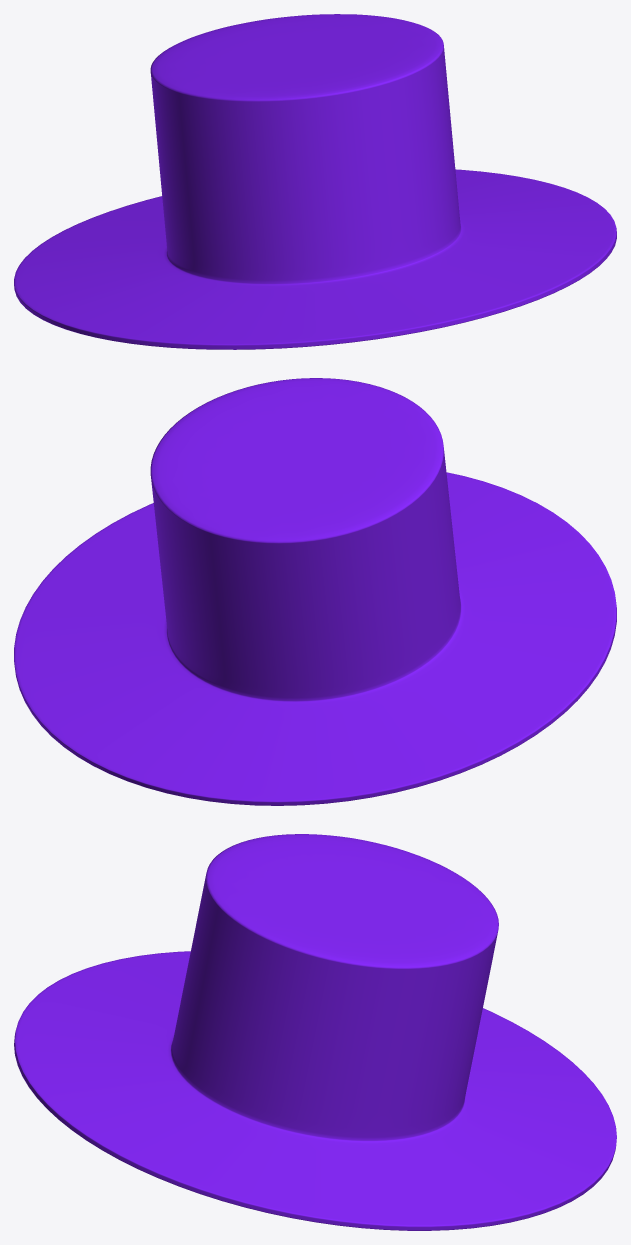
Rendered from 1010_hat.FBX.
3 renders of one model, top to bottom at view 1: azimuth 30°, elevation 25°; view 2: azimuth 150°, elevation 25°; view 3: azimuth 270°, elevation 25°, orthographic.
Visible parts, largest first — view 1: hat_red; view 2: hat_red; view 3: hat_red.
Part boxes in pixels (left/top/right/bottom): hat_red: left=14, top=14, right=616, bottom=349; hat_red: left=14, top=378, right=616, bottom=805; hat_red: left=14, top=834, right=616, bottom=1230.
Bounding box in the file's own units: 19.79 × 9.43 × 19.51.
